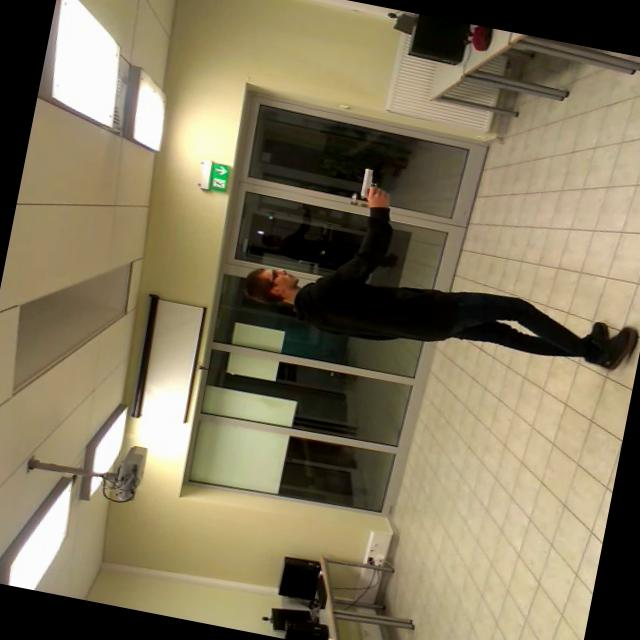handgun: (345, 157, 404, 210)
